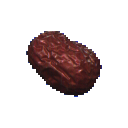gd: (16, 19, 109, 116)
